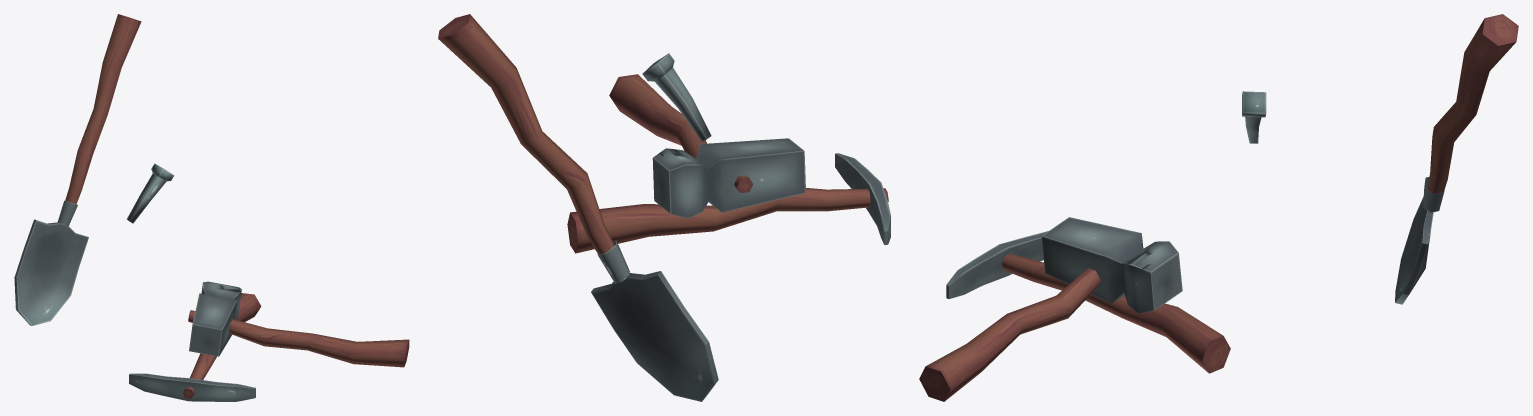
3 renders of one model, left to right at view 1: azimuth 30°, elevation 25°; view 2: azimuth 150°, elevation 25°; view 3: azimuth 270°, elevation 25°, orthographic. The views are drawn at different scales.
Visible parts, largest first — view 1: SM_Spade_Material #48_0; view 2: SM_Spade_Material #48_0; view 3: SM_Spade_Material #48_0.
Boxes of the visible parts, x1,y1,x2,y2 form: SM_Spade_Material #48_0: [14, 14, 409, 401]; SM_Spade_Material #48_0: [438, 14, 890, 401]; SM_Spade_Material #48_0: [919, 14, 1518, 401].
Bounding box in the file's own units: 147 × 152 × 227.
Materials: 1 (1 with a texture image).
